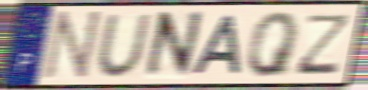A: (189, 14, 243, 77)
N: (140, 9, 207, 82), (40, 9, 105, 83)
Q: (246, 10, 302, 80)
U: (95, 11, 154, 79)
Z: (292, 12, 354, 77)
